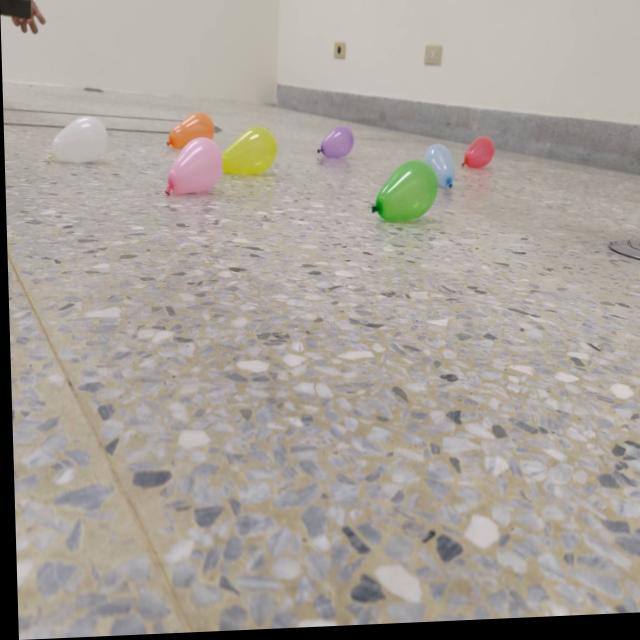other: (367, 161, 437, 227), (160, 138, 222, 197), (43, 114, 107, 166), (220, 128, 278, 178), (163, 114, 214, 151), (422, 145, 455, 194), (314, 129, 353, 162)
red: (459, 138, 494, 174)
